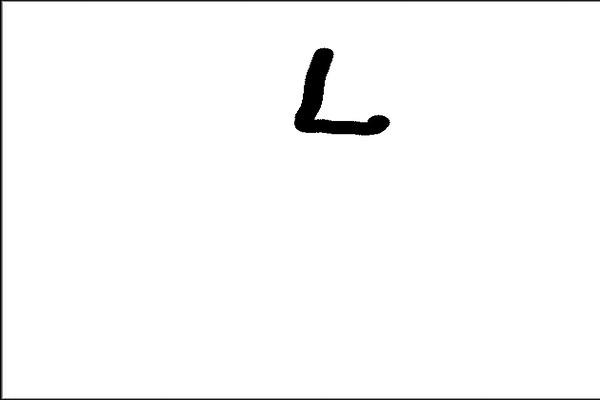L: (287, 39, 398, 140)
